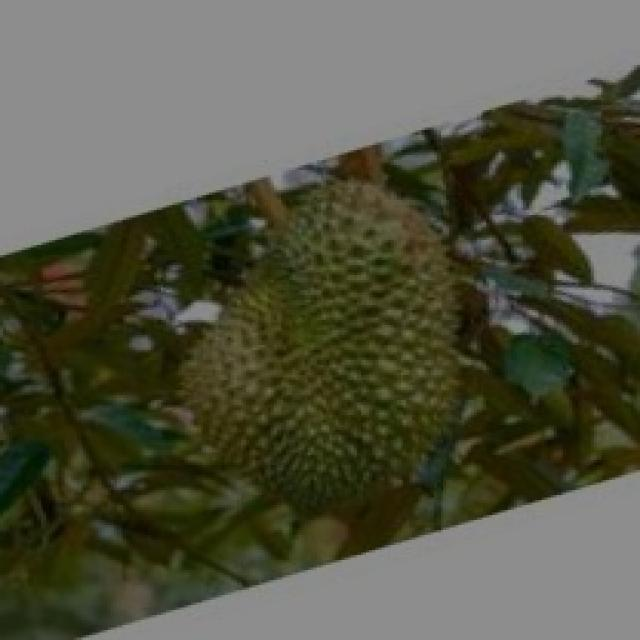fruit: (123, 148, 517, 568)
